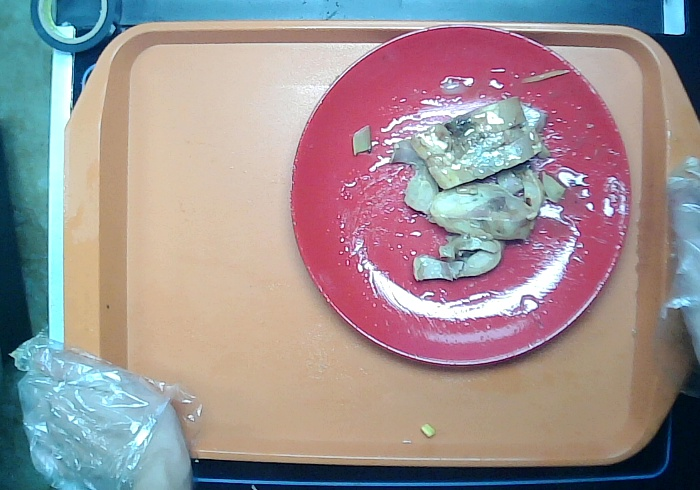HZYJPL-Hong_Se_Yuan_Pan: (288, 23, 633, 366)
